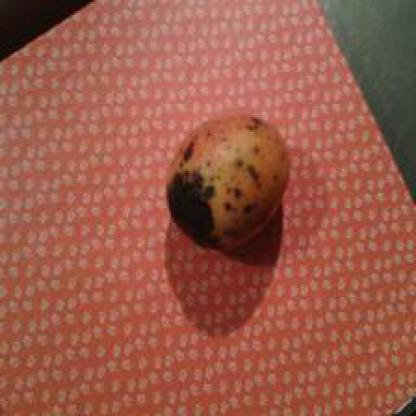mango_rotten: (164, 112, 292, 252)
